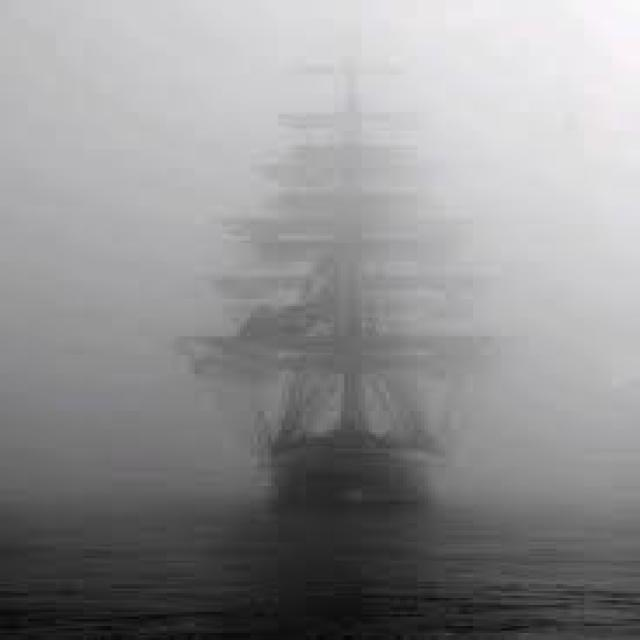fishing boat: (170, 71, 574, 534)
